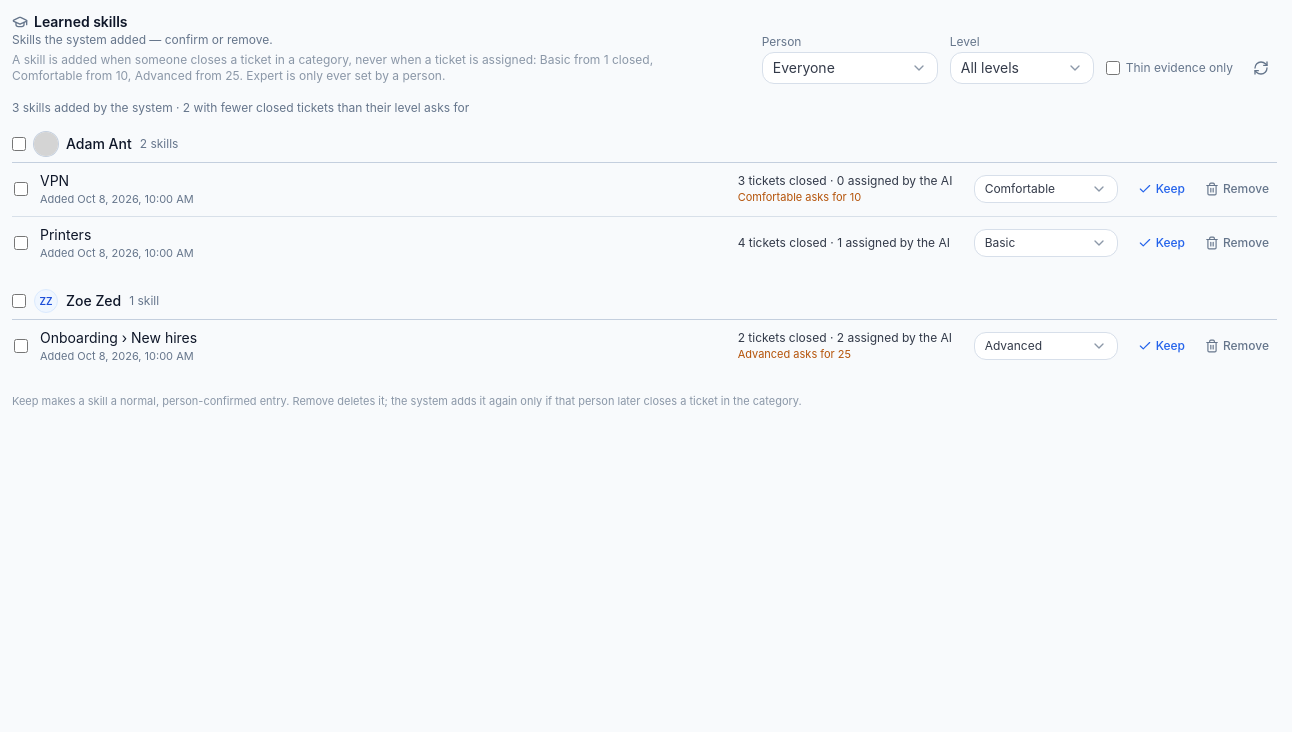
Test: LearnedSkillsTab › changing the level saves it and confirms the row
What coordinates should you click on to do the following:
click the dropdown named "Level of Onboarding › New hires for Zoe Zed"
I would click on:
 (1046, 346)
Its box is [974, 332, 1118, 360].
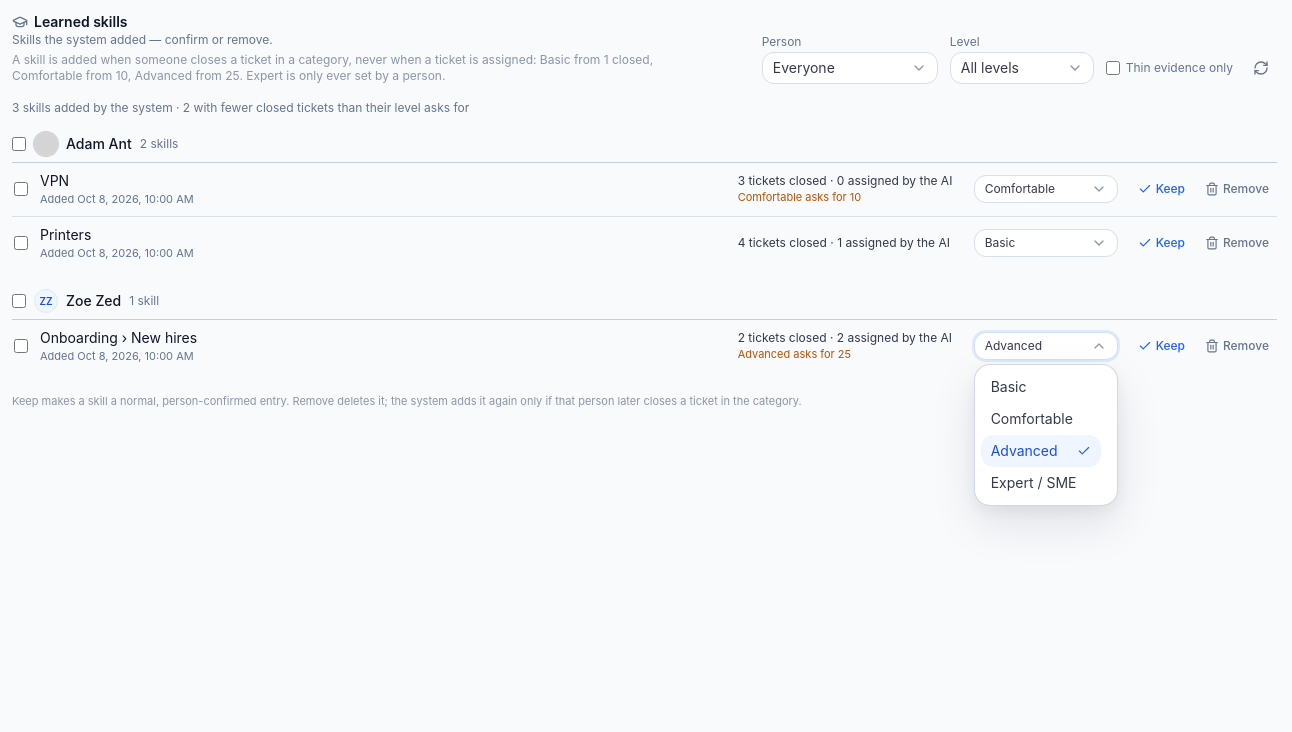
What coordinates should you click on to do the following:
click the option "Basic"
I would click on:
 (1008, 387)
Its box is [991, 378, 1026, 395].
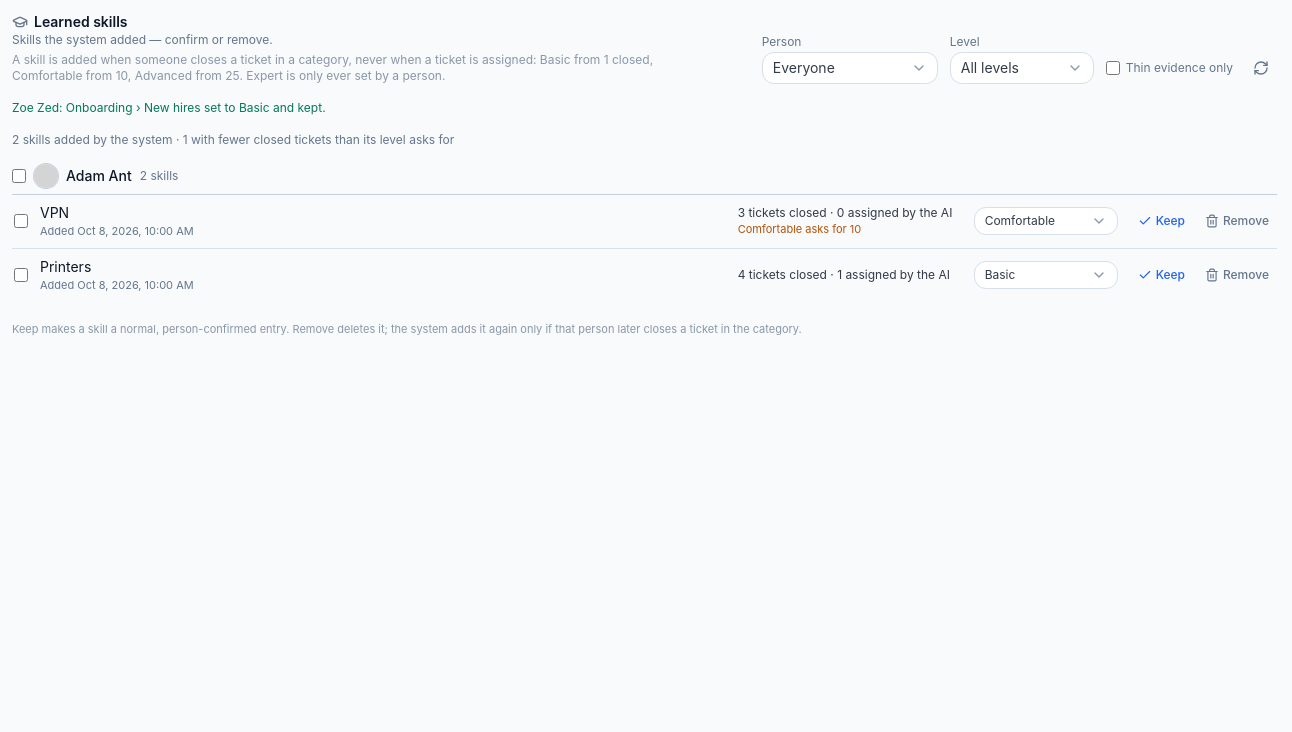
Result: the number of list items with test id "learned-row" is 2 at [12, 195, 1277, 248]; [12, 248, 1277, 301]
